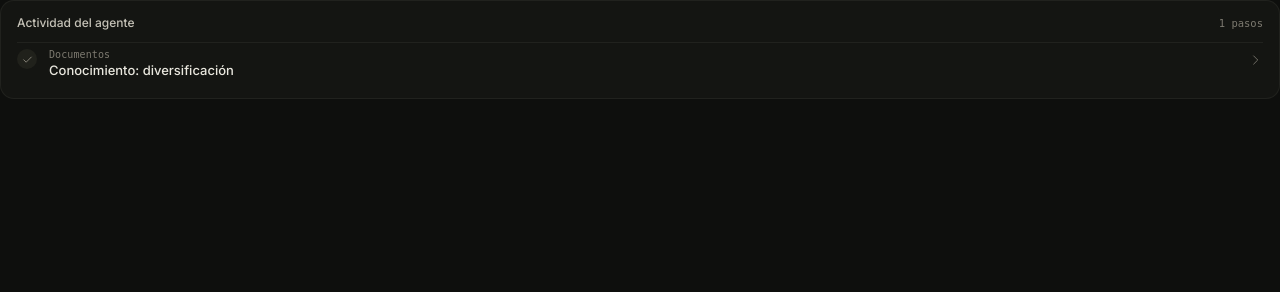
Test: AgentTrace › expande un paso y muestra sus fuentes
Click the button with aria-label "Ver detalle de Conocimiento: diversificación" at (80, 54), box [49, 49, 1263, 92]
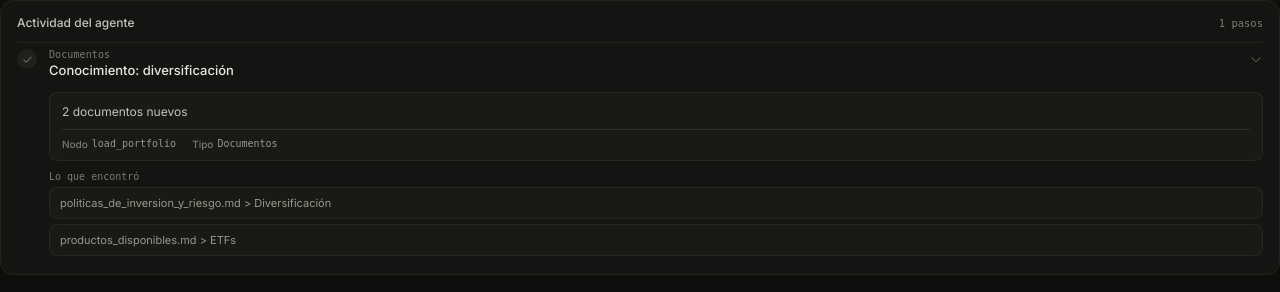
Check: the element with test id "step-detail-s2" is shown, box [49, 92, 1263, 161]
Check: the element with test id "step-detail-s2" shows "2 documentos nuevos", box [62, 104, 188, 118]
Check: the text "politicas_de_inversion_y_riesgo.md > Diversificación" is shown, box [60, 196, 331, 210]
